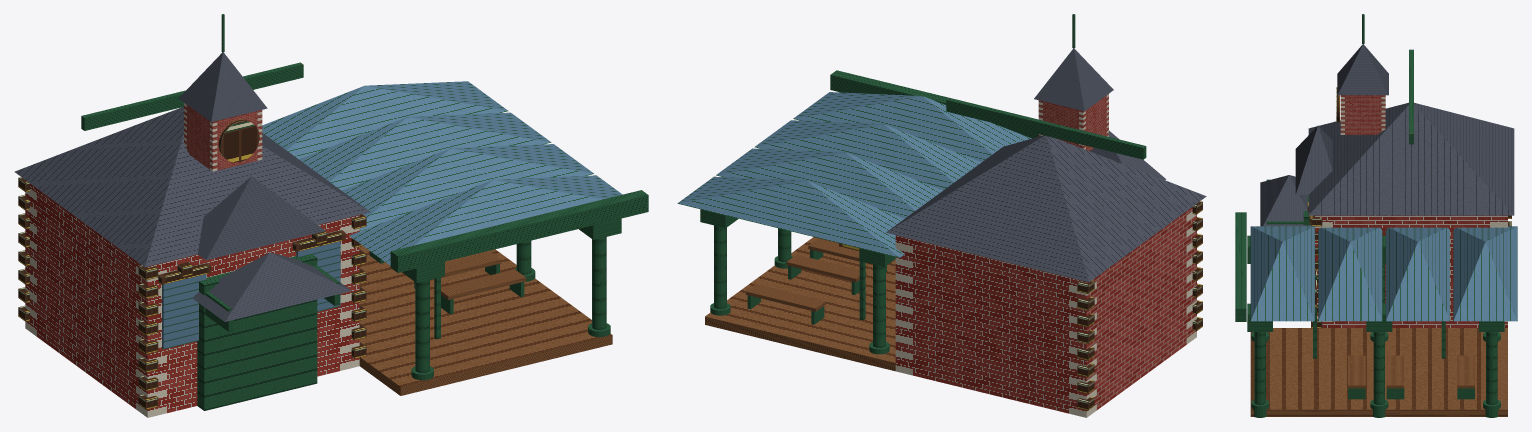
File: building_bus_station_var4_victorian.glb
3 renders of one model, left to right at view 1: azimuth 30°, elevation 25°; view 2: azimuth 150°, elevation 25°; view 3: azimuth 270°, elevation 25°, orthographic. The views are drawn at different scales.
Visible parts, largest first — view 1: Building_Bus_Station_Var4_Victorian; view 2: Building_Bus_Station_Var4_Victorian; view 3: Building_Bus_Station_Var4_Victorian.
Boxes of the visible parts, x1,y1,x2,y2 form: Building_Bus_Station_Var4_Victorian: (14,14,648,417); Building_Bus_Station_Var4_Victorian: (677,14,1206,417); Building_Bus_Station_Var4_Victorian: (1235,14,1517,417).
Bounding box in the file's own units: 12.95 × 9.6 × 8.77.
Materials: 1 (1 with a texture image).
